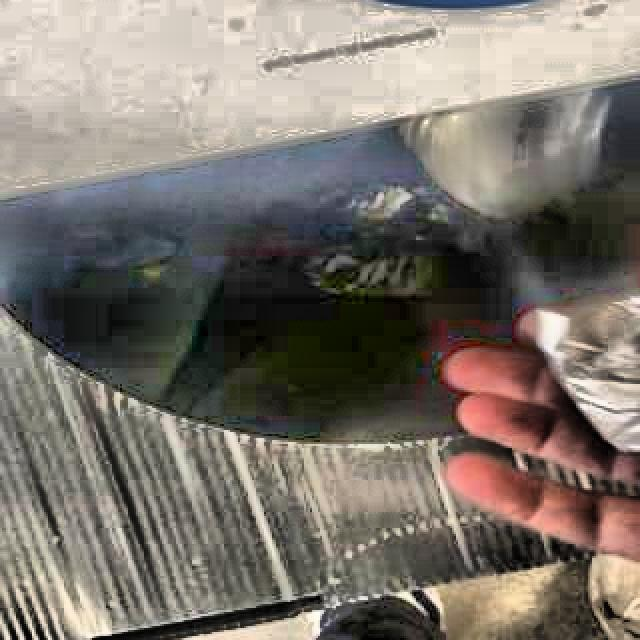metal: (520, 292, 640, 452)
